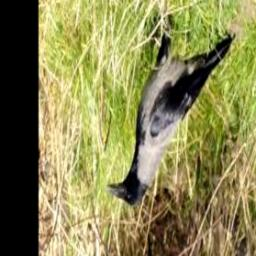Crow: (106, 16, 236, 206)
